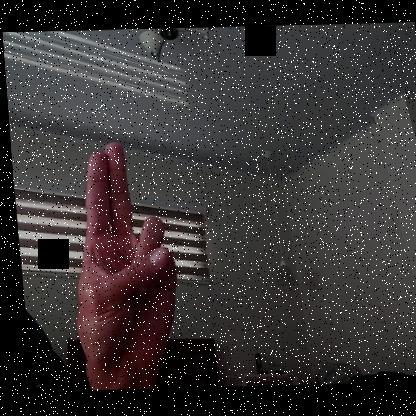U: (55, 139, 181, 383)
